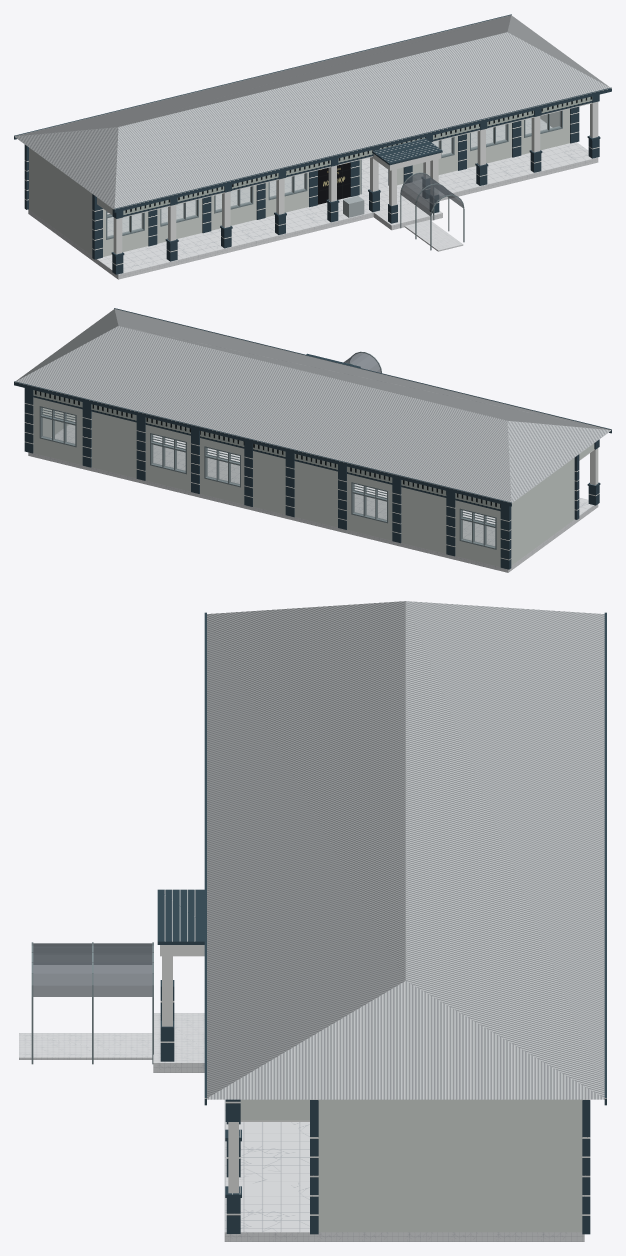
File: gedung_lab_ulw.glb
3 renders of one model, top to bottom at view 1: azimuth 30°, elevation 25°; view 2: azimuth 150°, elevation 25°; view 3: azimuth 270°, elevation 25°, orthographic. The views are drawn at different scales.
Visible parts, largest first — view 1: Atap_Spandek_Abu_Terang, Lantai_Marmer_Kosong_ULW, Pilaster_Dan_Umpak_SlateBiru, Dinding_Sage_Abu_ULW, Tiang_Atas_Dan_Kanopi_Putih, Kaca_Jendela_Transparan, Lis_Ventilasi_Vertikal, Kusen_Jendela_Dan_Rangka_Pergola, Paranet_Terowongan_Taman, Papan_Granit_Hitam_WORKSHOP, Bangku_Beton_Teras; view 2: Atap_Spandek_Abu_Terang, Dinding_Sage_Abu_ULW, Pilaster_Dan_Umpak_SlateBiru, Lantai_Marmer_Kosong_ULW, Kusen_Jendela_Dan_Rangka_Pergola, Lis_Ventilasi_Vertikal, Kaca_Jendela_Transparan, Paranet_Terowongan_Taman; view 3: Atap_Spandek_Abu_Terang, Dinding_Sage_Abu_ULW, Lantai_Marmer_Kosong_ULW, Pilaster_Dan_Umpak_SlateBiru, Paranet_Terowongan_Taman, Tiang_Atas_Dan_Kanopi_Putih, Kusen_Jendela_Dan_Rangka_Pergola.
Boxes of the visible parts, bbox=[...] form: Atap_Spandek_Abu_Terang: bbox=[15, 15, 610, 209]; Lantai_Marmer_Kosong_ULW: bbox=[28, 118, 598, 279]; Pilaster_Dan_Umpak_SlateBiru: bbox=[14, 14, 611, 274]; Dinding_Sage_Abu_ULW: bbox=[29, 109, 569, 256]; Tiang_Atas_Dan_Kanopi_Putih: bbox=[97, 101, 598, 254]; Kaca_Jendela_Transparan: bbox=[107, 111, 560, 237]; Lis_Ventilasi_Vertikal: bbox=[123, 96, 592, 216]; Kusen_Jendela_Dan_Rangka_Pergola: bbox=[106, 110, 562, 250]; Paranet_Terowongan_Taman: bbox=[401, 173, 462, 215]; Papan_Granit_Hitam_WORKSHOP: bbox=[318, 162, 350, 204]; Bangku_Beton_Teras: bbox=[343, 196, 364, 217]; Atap_Spandek_Abu_Terang: bbox=[15, 309, 610, 502]; Dinding_Sage_Abu_ULW: bbox=[33, 397, 594, 566]; Pilaster_Dan_Umpak_SlateBiru: bbox=[14, 308, 611, 569]; Lantai_Marmer_Kosong_ULW: bbox=[28, 420, 598, 572]; Kusen_Jendela_Dan_Rangka_Pergola: bbox=[39, 351, 496, 549]; Lis_Ventilasi_Vertikal: bbox=[33, 390, 500, 511]; Kaca_Jendela_Transparan: bbox=[42, 417, 495, 546]; Paranet_Terowongan_Taman: bbox=[343, 352, 381, 372]; Atap_Spandek_Abu_Terang: bbox=[207, 601, 604, 1099]; Dinding_Sage_Abu_ULW: bbox=[240, 1099, 582, 1232]; Lantai_Marmer_Kosong_ULW: bbox=[19, 1013, 584, 1241]; Pilaster_Dan_Umpak_SlateBiru: bbox=[157, 612, 606, 1234]; Paranet_Terowongan_Taman: bbox=[33, 943, 152, 996]; Tiang_Atas_Dan_Kanopi_Putih: bbox=[160, 945, 309, 1193]; Kusen_Jendela_Dan_Rangka_Pergola: bbox=[31, 942, 153, 1064].
Bounding box in the file's own units: 25.7 × 5.35 × 13.15.
Materials: 11 (5 with a texture image).
